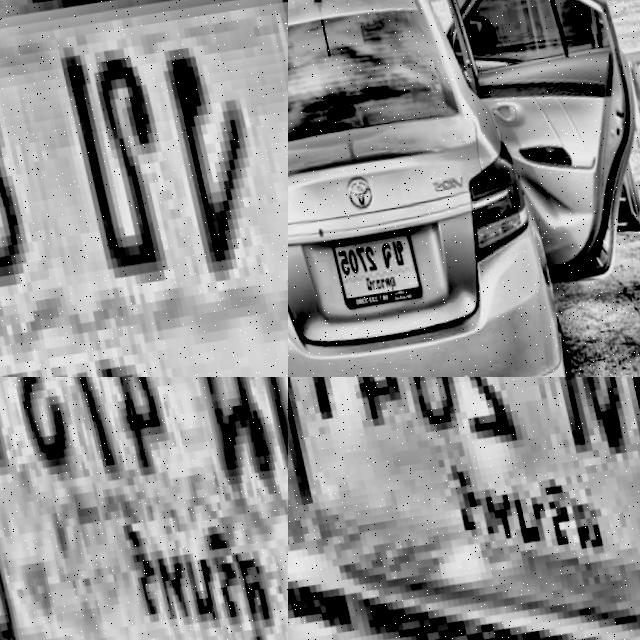license-plate: (0, 0, 288, 377), (288, 377, 640, 640), (0, 377, 288, 640), (316, 224, 420, 318)
